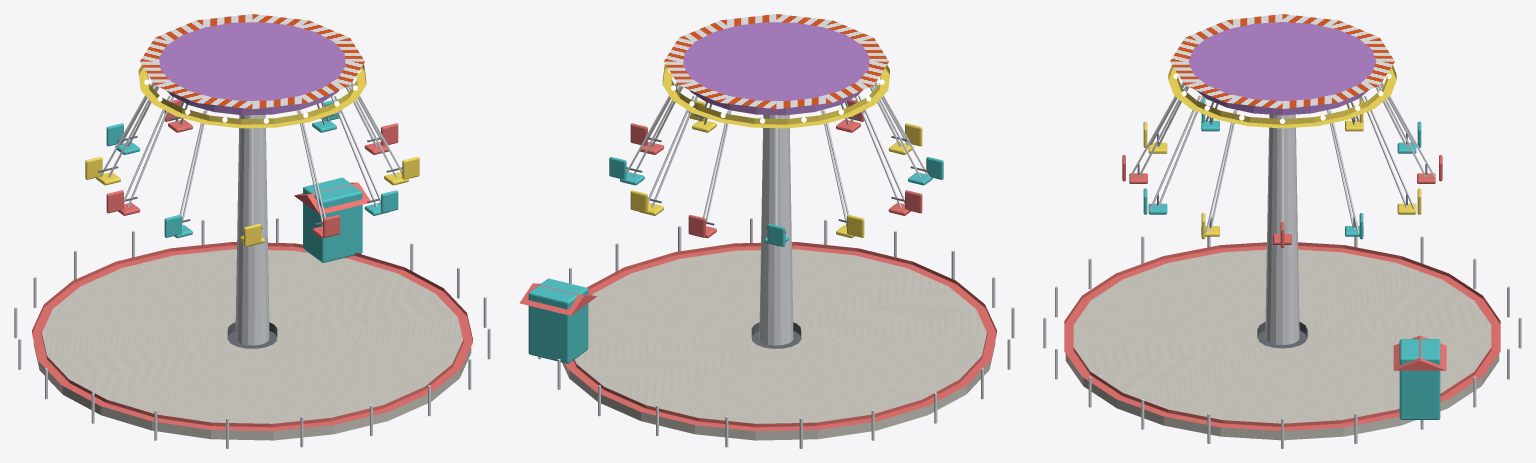
The model's file is theme-park-rides-and-coasters-theme-park-rides-and-coa-8af0e6ab.glb.
3 renders of one model, left to right at view 1: azimuth 30°, elevation 25°; view 2: azimuth 150°, elevation 25°; view 3: azimuth 270°, elevation 25°, orthographic.
Visible parts, largest first — view 1: theme-park-rides-and-coasters-chair-swing-ride, swing-top/purple, swing-top/stripe, swing-top/yellow, swing-top/steel, swing-top/teal, swing-top/red; view 2: theme-park-rides-and-coasters-chair-swing-ride, swing-top/purple, swing-top/stripe, swing-top/yellow, swing-top/steel, swing-top/red, swing-top/teal; view 3: theme-park-rides-and-coasters-chair-swing-ride, swing-top/purple, swing-top/stripe, swing-top/steel, swing-top/yellow, swing-top/teal, swing-top/red.
Boxes of the visible parts, x1,y1,x2,y2 form: theme-park-rides-and-coasters-chair-swing-ride: [14, 115, 490, 448]; swing-top/purple: [159, 22, 345, 115]; swing-top/stripe: [140, 14, 364, 109]; swing-top/yellow: [85, 64, 419, 246]; swing-top/steel: [99, 82, 402, 227]; swing-top/teal: [106, 99, 398, 238]; swing-top/red: [106, 99, 398, 238]; theme-park-rides-and-coasters-chair-swing-ride: [519, 115, 1014, 448]; swing-top/purple: [683, 22, 869, 115]; swing-top/stripe: [663, 14, 888, 109]; swing-top/yellow: [630, 64, 922, 238]; swing-top/steel: [626, 82, 929, 227]; swing-top/red: [630, 99, 922, 238]; swing-top/teal: [609, 157, 943, 246]; theme-park-rides-and-coasters-chair-swing-ride: [1043, 114, 1521, 448]; swing-top/purple: [1188, 22, 1376, 115]; swing-top/stripe: [1170, 14, 1394, 108]; swing-top/steel: [1129, 82, 1435, 232]; swing-top/yellow: [1143, 65, 1421, 239]; swing-top/teal: [1143, 97, 1421, 239]; swing-top/red: [1122, 155, 1442, 248].
Bounding box in the file's own units: 15.3 × 11.4 × 15.3.
Materials: 9 (2 with a texture image).
